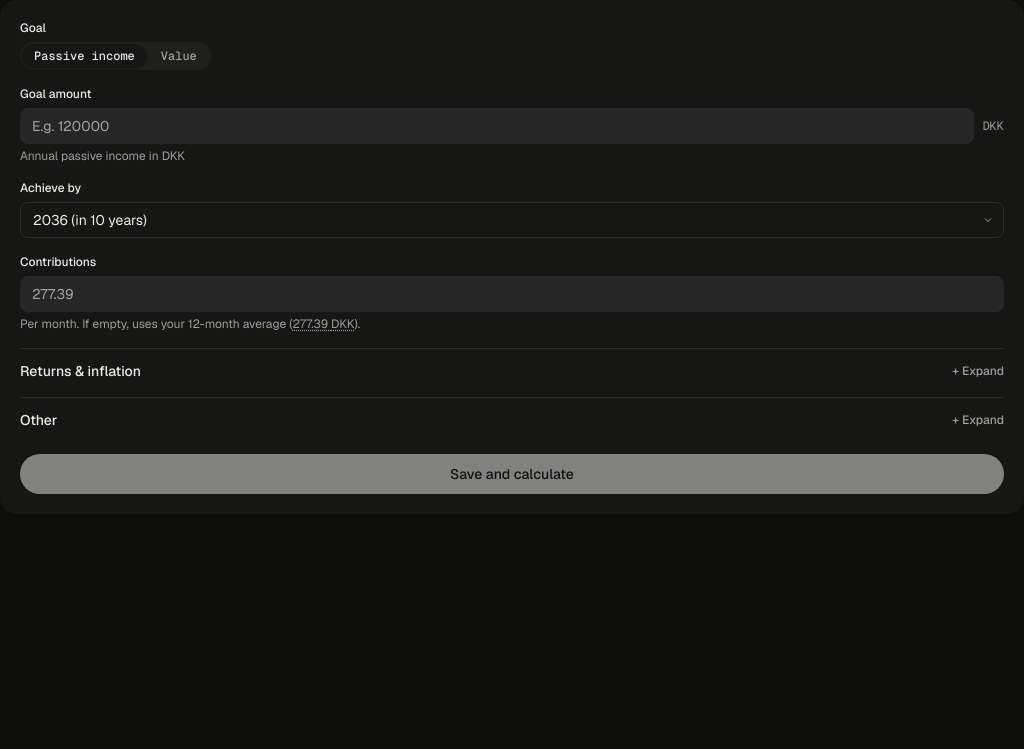
Scenario: GoalForm › switching to Value mode swaps yield/growth for a returns input
Click the radio button labelled "Value".
click(179, 56)  # box [149, 44, 209, 68]
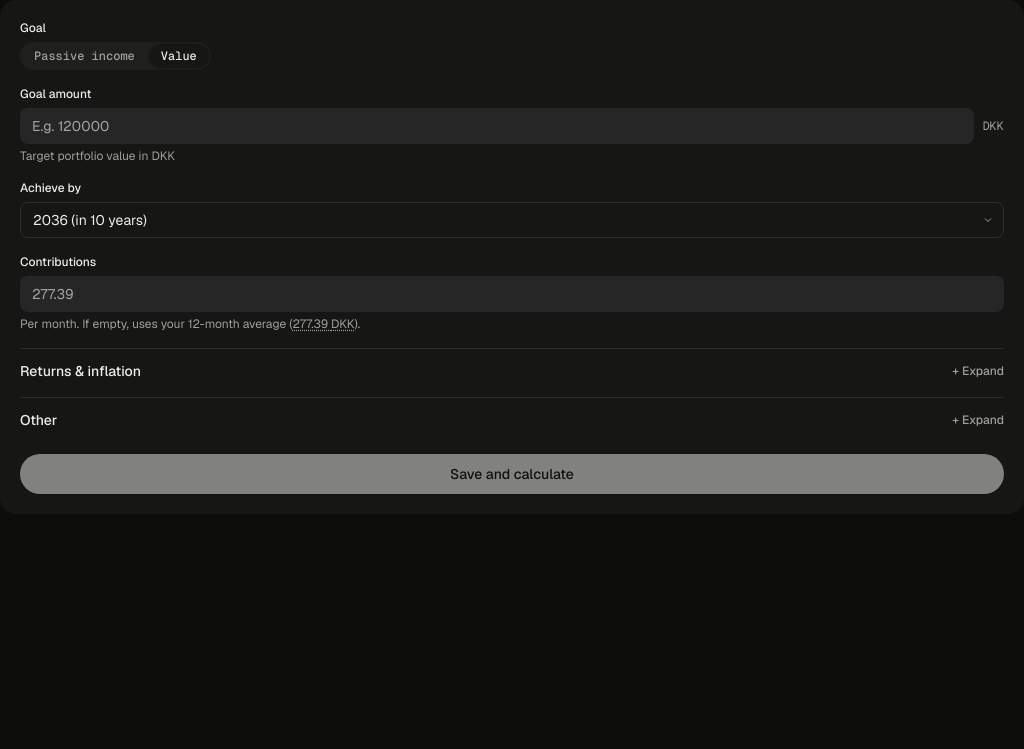
Click the button "Returns & inflation + Expand".
click(80, 371)  # box [20, 361, 1004, 381]
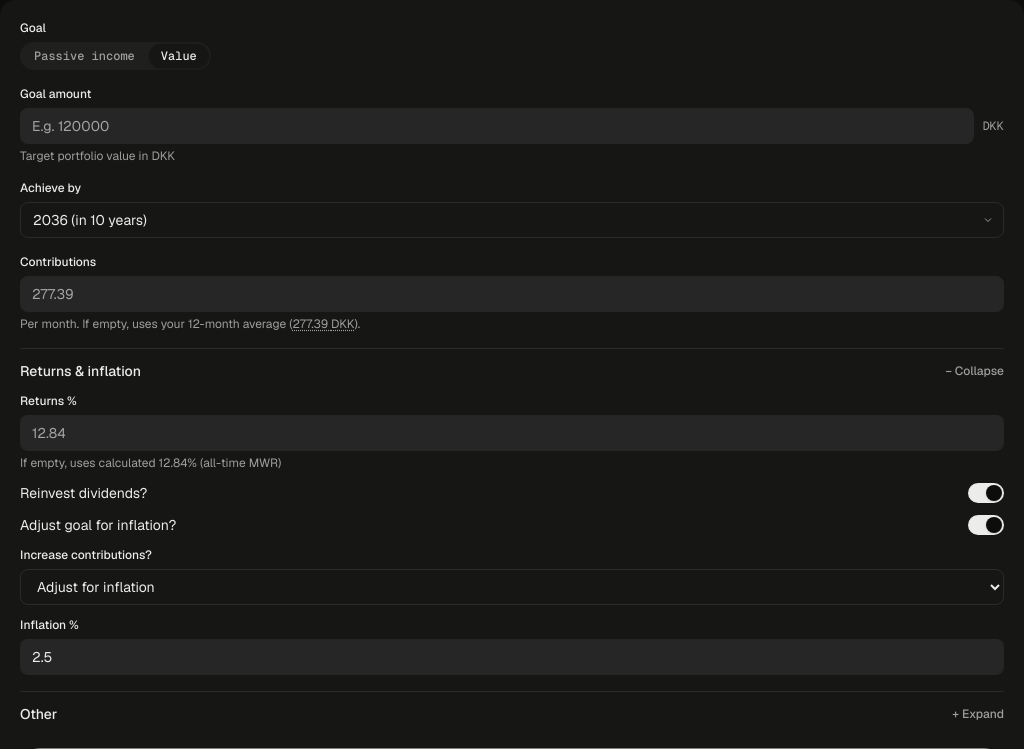
Expected: the text "If empty, uses calculated 12.84% (all-time MWR)" is shown, [20, 455, 281, 471]
